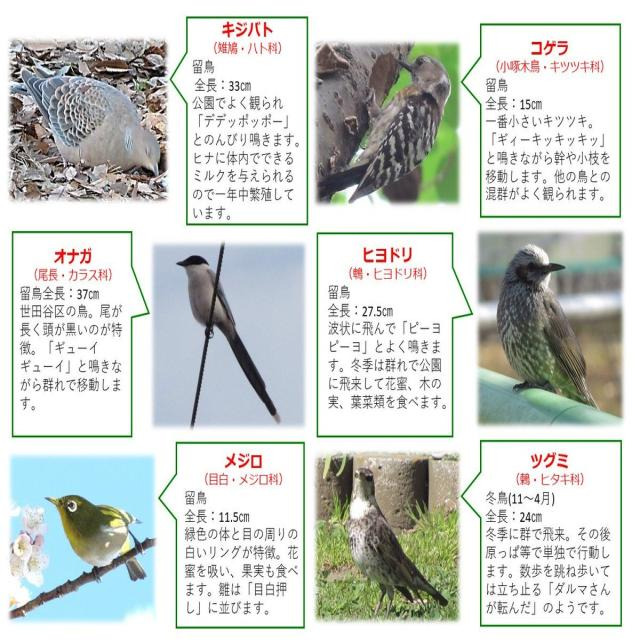bird: (342, 47, 455, 216), (172, 256, 278, 422), (492, 247, 592, 417), (344, 457, 445, 619), (42, 72, 170, 184), (44, 495, 148, 581)
